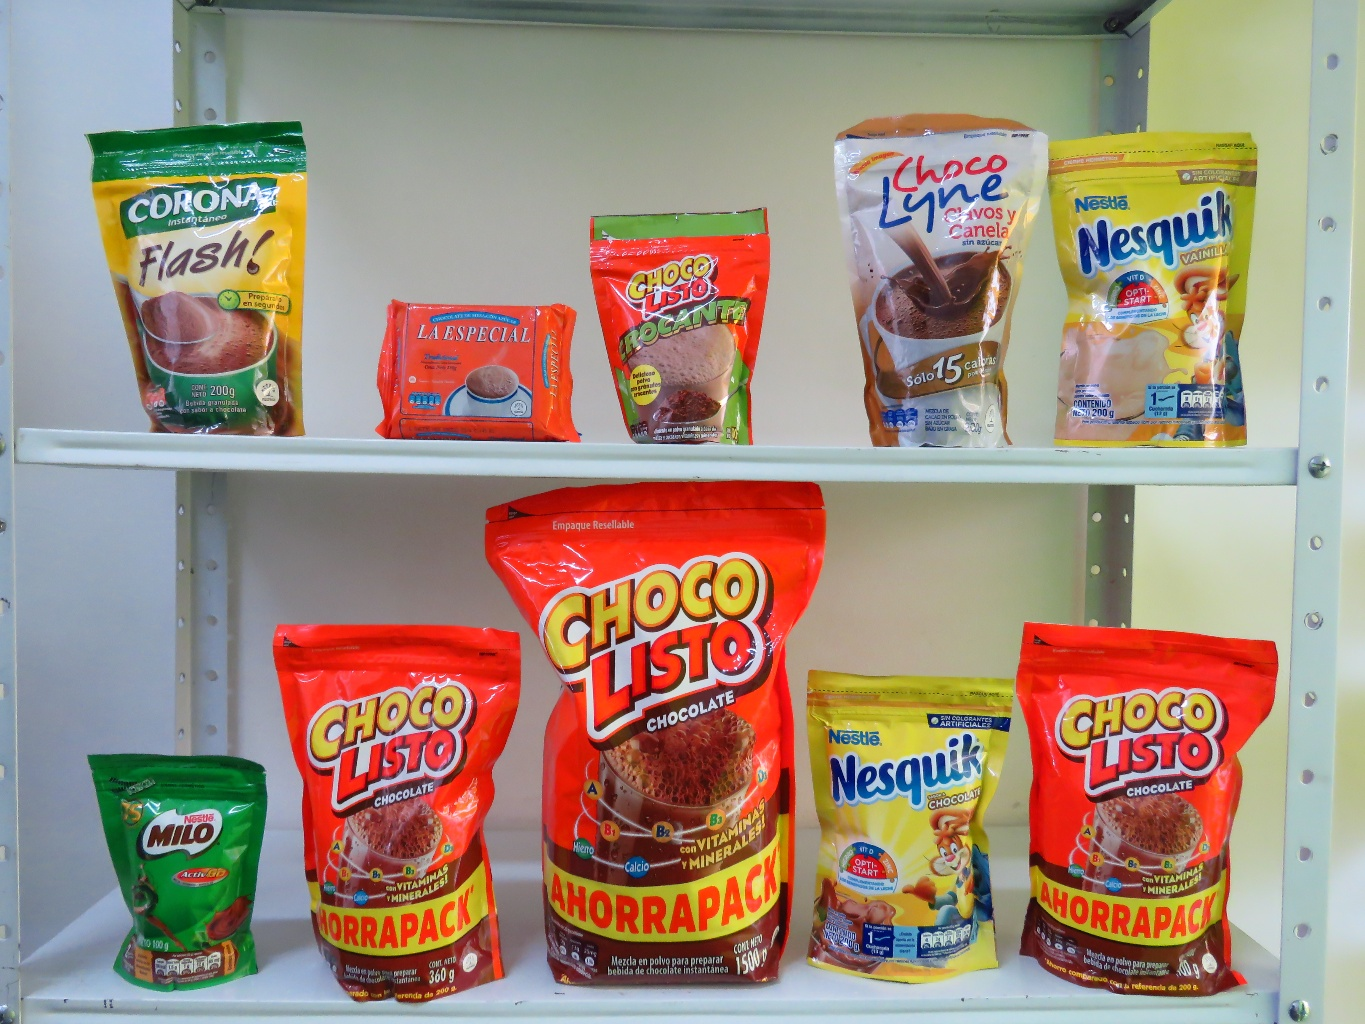COL0170102DYP10000: (591, 194, 773, 447)
COL0170103DYP1,500: (508, 464, 821, 984)
COL0170103DYP36000: (267, 614, 527, 1007)
COL0170103DYP40000: (1020, 622, 1283, 994)
COL0170203DYP10000: (85, 739, 261, 990)
COL0170303DYP20000: (811, 655, 1039, 984)
COL0170306DYP20000: (1049, 120, 1269, 447)
